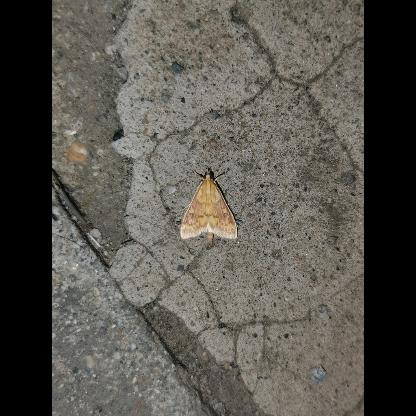Asian Corn Borer Moth: (178, 166, 240, 246)
